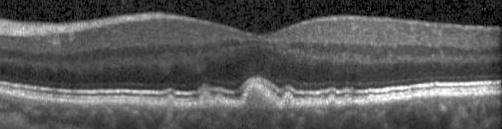retinal_drusen: (245, 85, 279, 108), (201, 93, 212, 108), (215, 93, 227, 105), (284, 94, 294, 107), (165, 97, 176, 107), (328, 97, 337, 107), (344, 96, 354, 105)
